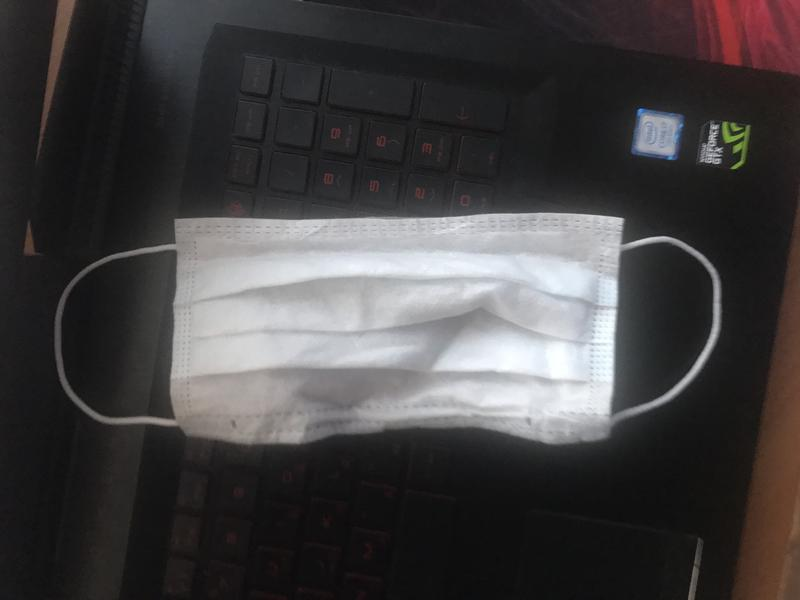medical_mask: (55, 214, 721, 447)
